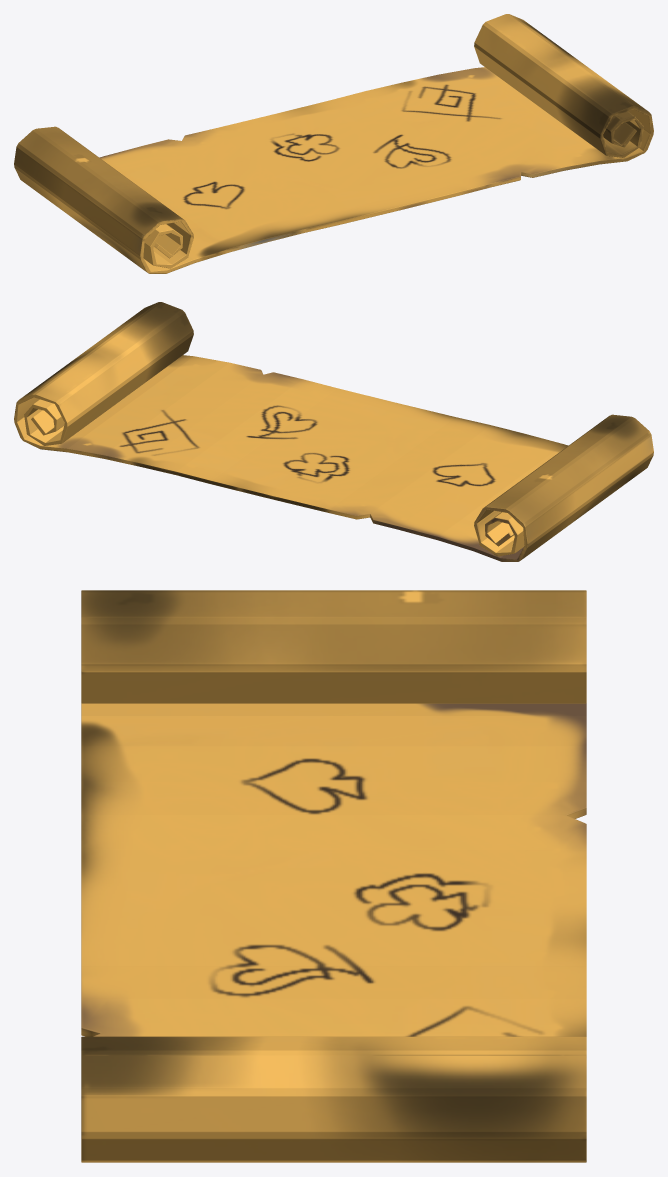
File: Scroll0.fbx
3 renders of one model, top to bottom at view 1: azimuth 30°, elevation 25°; view 2: azimuth 150°, elevation 25°; view 3: azimuth 270°, elevation 25°, orthographic. The views are drawn at different scales.
Parts seen in each view (by area): view 1: Scroll0; view 2: Scroll0; view 3: Scroll0.
Part boxes in pixels (x1,y1,x2,y2): Scroll0: (14, 14, 653, 273); Scroll0: (14, 302, 653, 561); Scroll0: (81, 590, 586, 1162).
Size of the model in its own units: 43.94 by 4.4 by 18.72.
